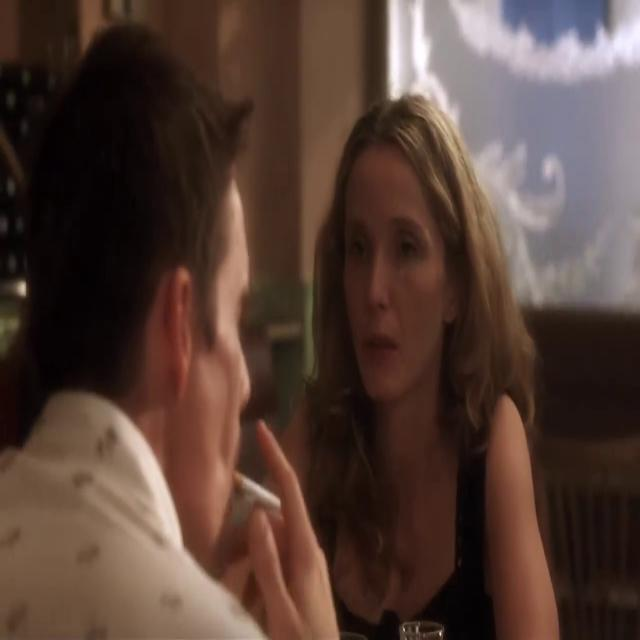Smooking: (238, 461, 286, 514)
